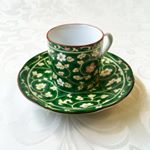cups: (44, 21, 117, 92)
